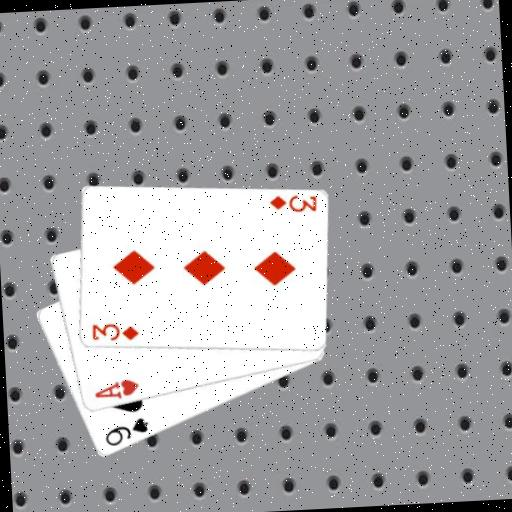3D: (88, 318, 141, 344), (266, 191, 318, 216)
9S: (101, 415, 152, 449)
AH: (91, 376, 141, 402)
